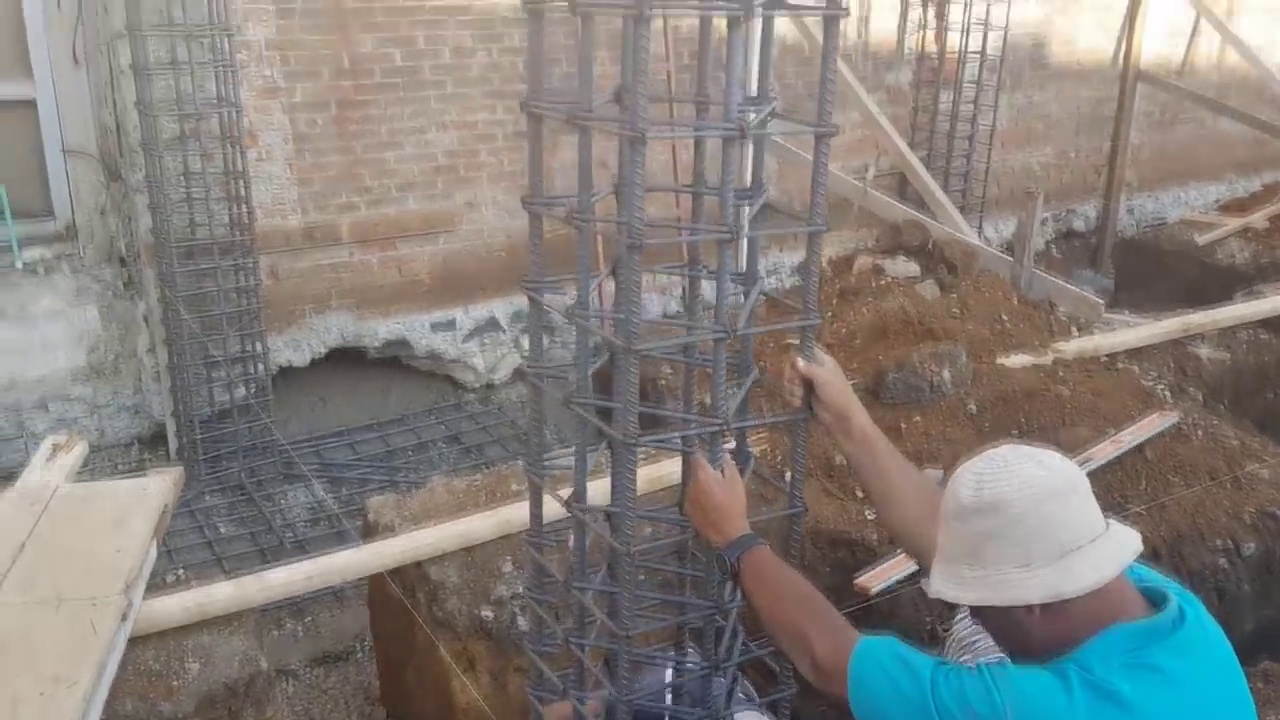helmet-off: (926, 454, 1158, 645)
person: (690, 339, 1258, 720)
